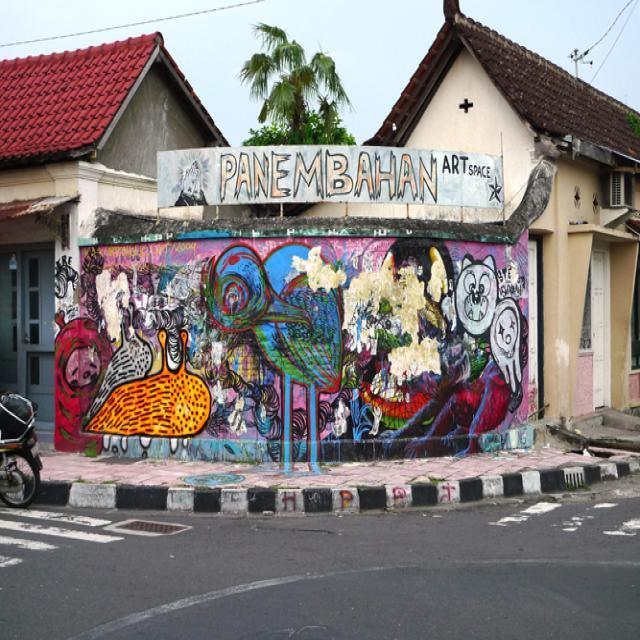-: (56, 234, 538, 456), (221, 151, 440, 208), (170, 155, 213, 207), (442, 154, 498, 182), (280, 490, 300, 516), (440, 482, 458, 508), (338, 488, 356, 513), (488, 181, 504, 207), (395, 484, 406, 506)
